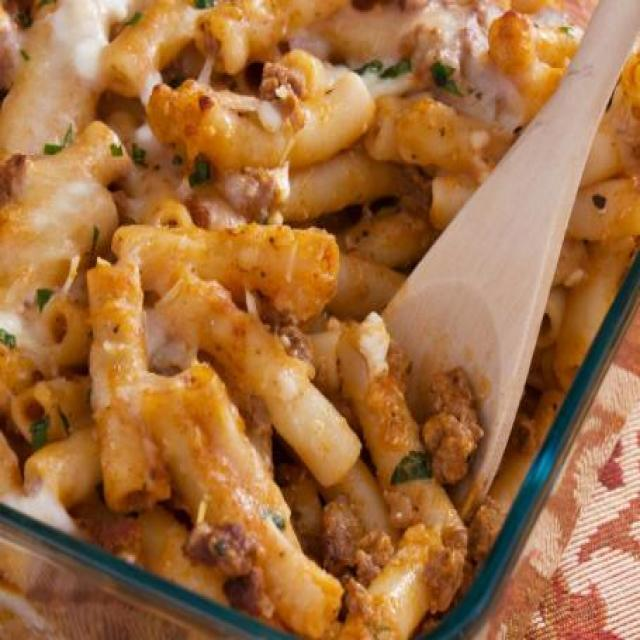Pasta al ragu: (10, 19, 522, 574)
